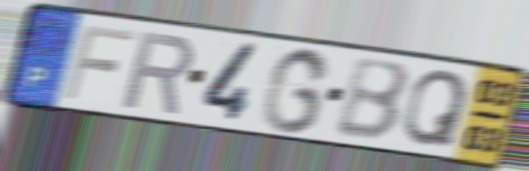4: (197, 38, 262, 126)
B: (333, 57, 413, 144)
F: (60, 22, 139, 102)
G: (258, 45, 334, 136)
Q: (400, 67, 472, 150)
R: (119, 28, 198, 117)
